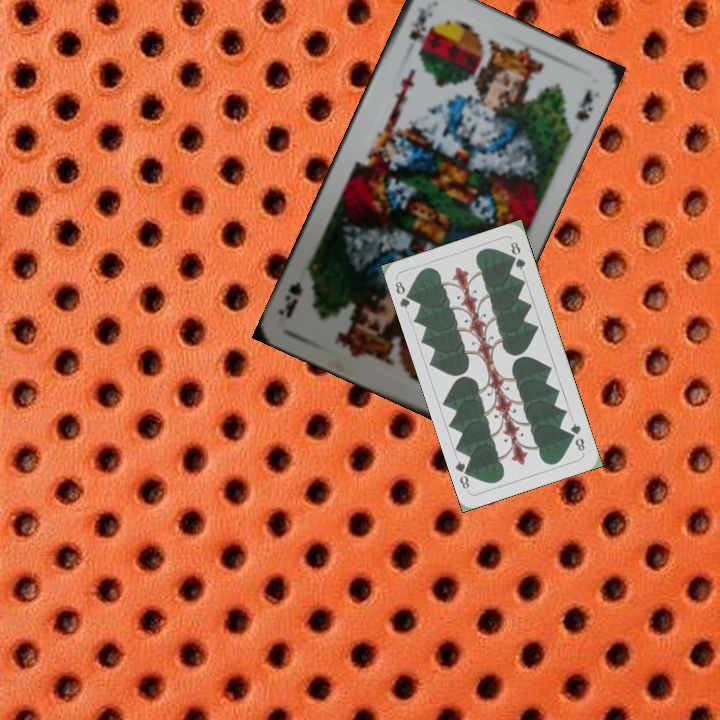G8: (391, 277, 416, 312), (566, 419, 588, 454)
SK: (405, 4, 436, 44)
